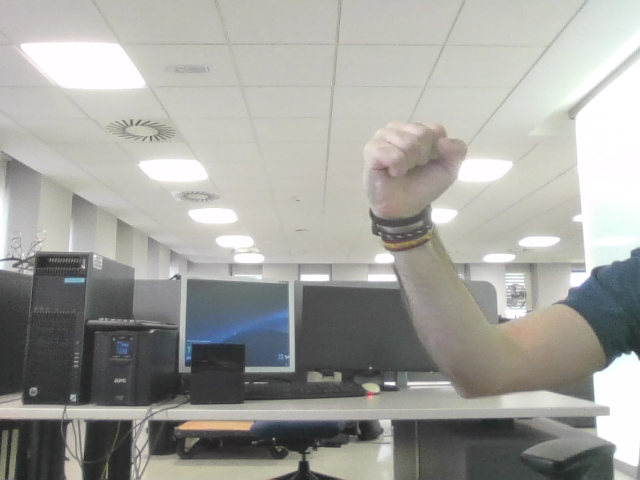Puño: (375, 128, 449, 187)
